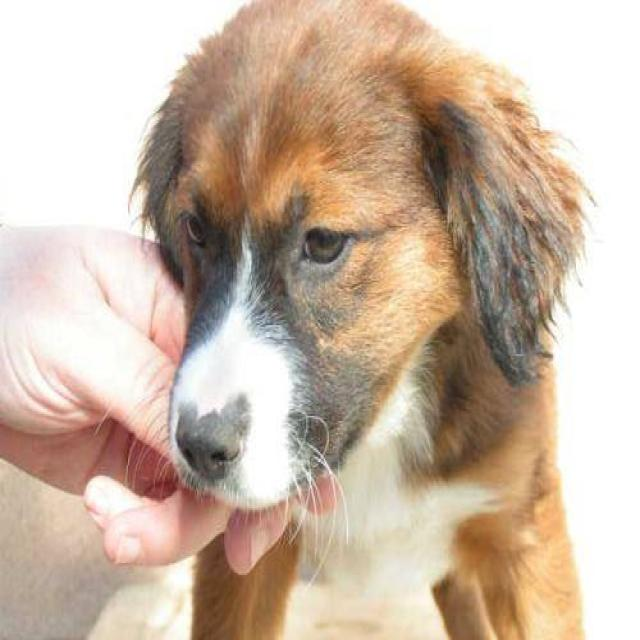dog: (112, 0, 597, 638)
